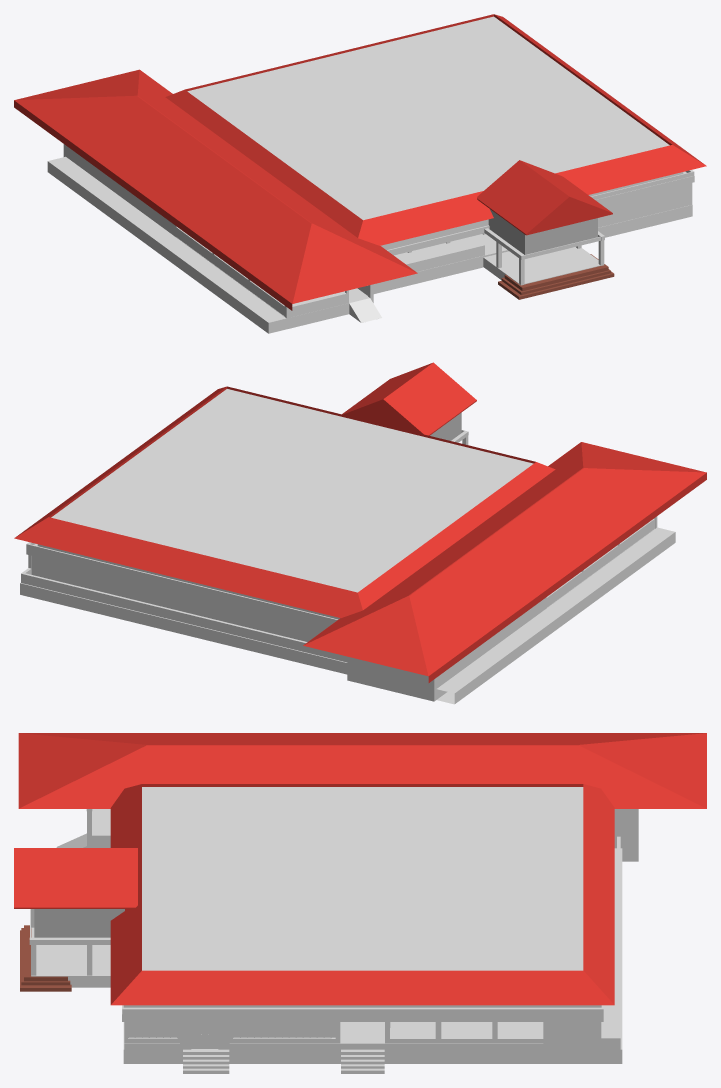
The model's file is HCU Cafeteria.fbx.
The picture shows the model from 3 angles, top to bottom: view 1: azimuth 30°, elevation 25°; view 2: azimuth 150°, elevation 25°; view 3: azimuth 270°, elevation 25°; orthographic projection. The views are drawn at different scales.
Visible parts, largest first — view 1: Cube.016, Cube.017, Cube.004, Cube.002, Cube.021, Cube, Cube.003, Cube.008, Cube.005, Cube.010, Cube.032, Cube.007 (+4 smaller); view 2: Cube.016, Cube.017, Cube.004, Cube.002, Cube.012, Cube.021, Cube.003, Cube, Cube.015, Cube.032; view 3: Cube.016, Cube.017, Cube.004, Cube, Cube.003, Cube.021, Cube.014, Cube.008, Cube.005, Cube.013, Cube.002, Cube.026 (+7 smaller).
Boxes of the visible parts, box(x1,y1,x2,y2) form: Cube.016: box(187, 16, 669, 220); Cube.017: box(14, 69, 417, 310); Cube.004: box(165, 14, 706, 245); Cube.002: box(47, 144, 381, 333); Cube.021: box(477, 160, 612, 235); Cube: box(373, 205, 692, 293); Cube.003: box(380, 170, 694, 255); Cube.008: box(483, 247, 600, 285); Cube.005: box(488, 209, 597, 254); Cube.010: box(598, 183, 692, 227); Cube.032: box(176, 227, 284, 315); Cube.007: box(484, 228, 604, 285); Cube.016: box(51, 389, 533, 592); Cube.017: box(303, 442, 706, 682); Cube.004: box(14, 386, 555, 617); Cube.002: box(347, 516, 675, 704); Cube.012: box(31, 555, 326, 641); Cube.021: box(342, 362, 476, 435); Cube.003: box(26, 542, 339, 627); Cube: box(20, 583, 347, 674); Cube.015: box(21, 568, 347, 662); Cube.032: box(546, 518, 654, 607); Cube.016: box(142, 787, 583, 970); Cube.017: box(18, 733, 706, 808); Cube.004: box(110, 784, 614, 1005); Cube: box(123, 848, 622, 1063); Cube.003: box(122, 1005, 603, 1021); Cube.021: box(14, 848, 137, 908); Cube.014: box(124, 1022, 543, 1049); Cube.008: box(31, 927, 110, 987); Cube.005: box(34, 909, 124, 937); Cube.013: box(233, 1022, 335, 1043); Cube.002: box(56, 809, 638, 861); Cube.026: box(543, 1022, 601, 1049).
Bounding box in the file's own units: 5900 × 1144 × 6234.
